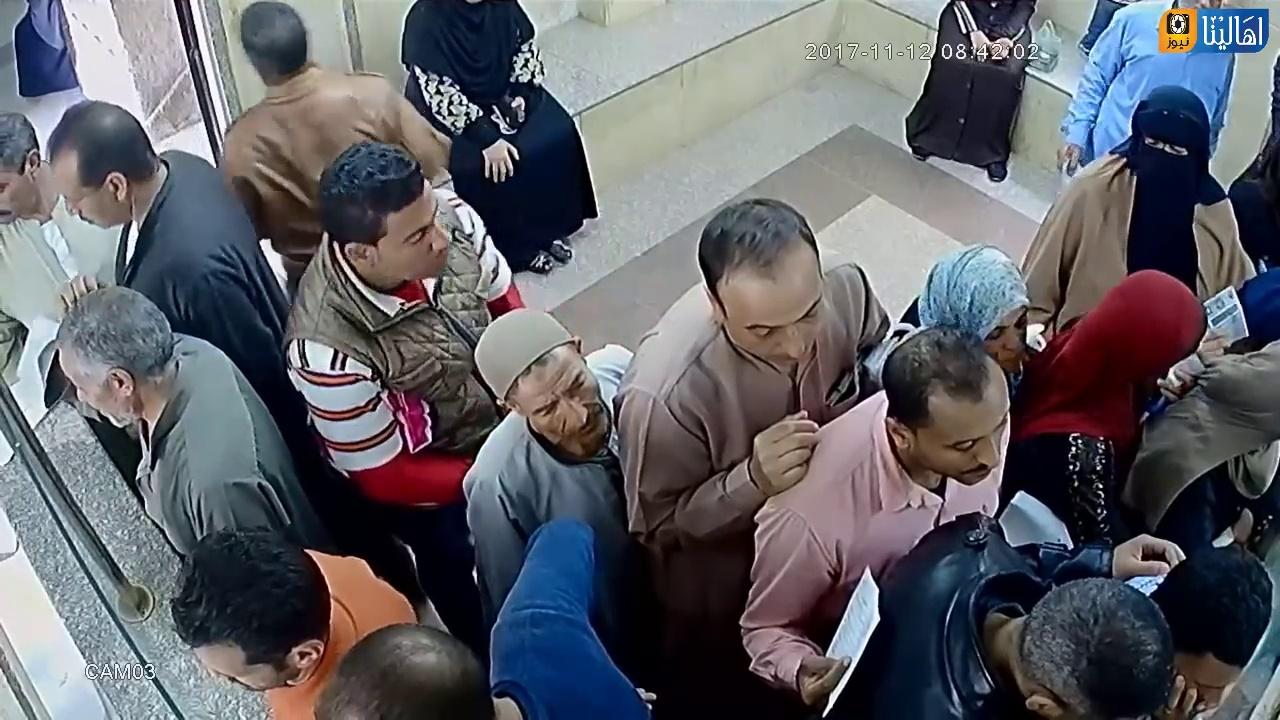face: (522, 358, 614, 450), (729, 291, 819, 366), (371, 203, 455, 282), (934, 414, 1014, 484), (978, 301, 1035, 370)
